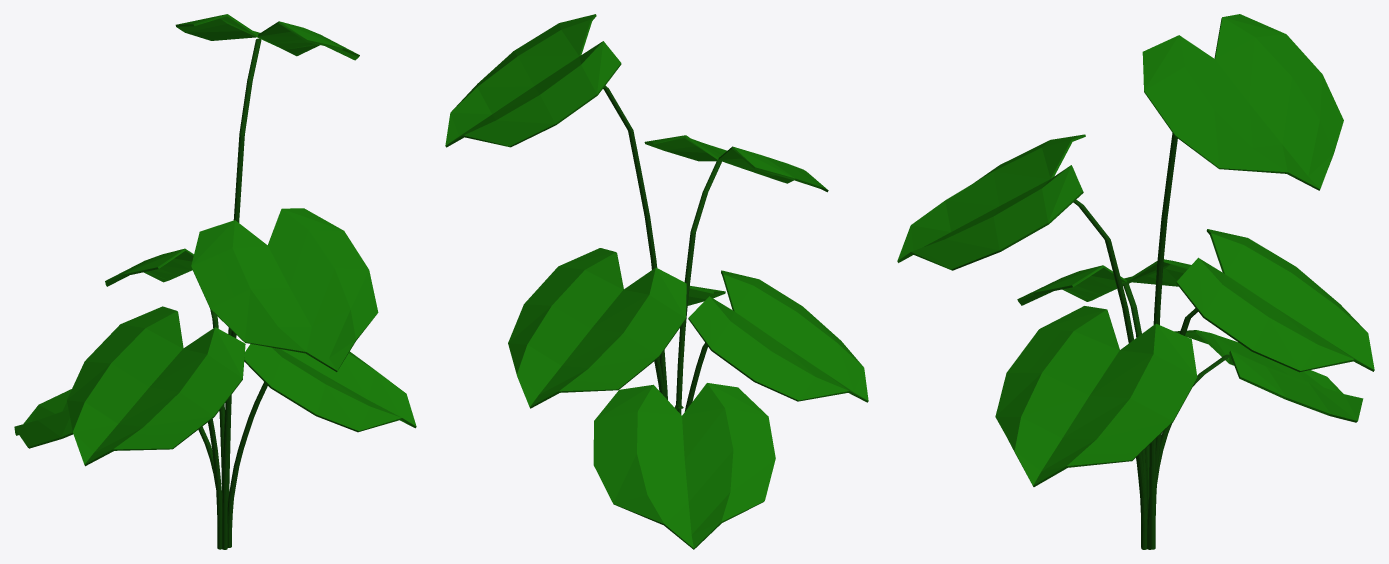
File: plant2.fbx
The picture shows the model from 3 angles, left to right: view 1: azimuth 30°, elevation 25°; view 2: azimuth 150°, elevation 25°; view 3: azimuth 270°, elevation 25°; orthographic projection. The views are drawn at different scales.
Visible parts, largest first — view 1: Plane003; view 2: Plane003; view 3: Plane003.
Boxes of the visible parts, box(x1,y1,x2,y2) form: Plane003: box(14, 14, 416, 549); Plane003: box(445, 14, 868, 549); Plane003: box(897, 14, 1374, 549).
Bounding box in the file's own units: 163 × 234 × 184.
